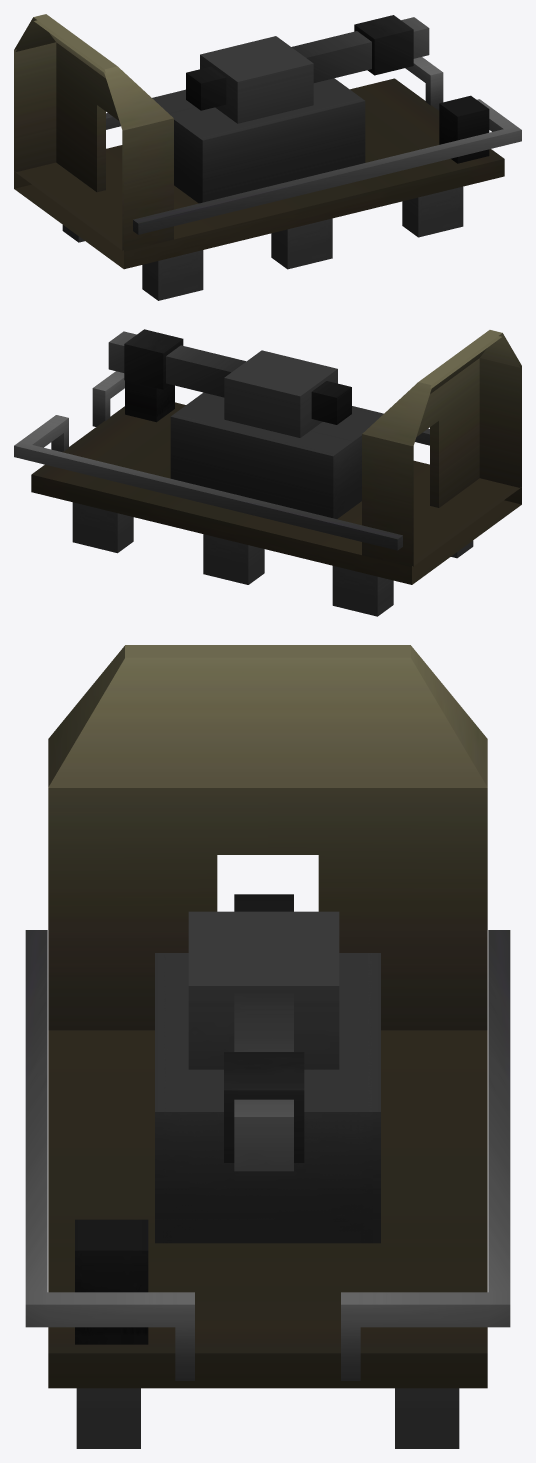
The model's file is train_half_heavy_gun_everything_placeholder_v002.fbx.
3 renders of one model, top to bottom at view 1: azimuth 30°, elevation 25°; view 2: azimuth 150°, elevation 25°; view 3: azimuth 270°, elevation 25°, orthographic. The views are drawn at different scales.
Parts seen in each view (by area): view 1: body heavy weapon.001, heavy weapon pewpew.002, heavy weapon base.001, terminal; view 2: body heavy weapon.001, heavy weapon pewpew.002, heavy weapon base.001, terminal; view 3: body heavy weapon.001, heavy weapon base.001, heavy weapon pewpew.002, terminal.
Boxes of the visible parts, left/top/right/bottom form: body heavy weapon.001: left=14, top=14, right=521, bottom=300; heavy weapon pewpew.002: left=186, top=15, right=429, bottom=110; heavy weapon base.001: left=200, top=36, right=313, bottom=123; terminal: left=439, top=95, right=489, bottom=163; body heavy weapon.001: left=14, top=330, right=521, bottom=616; heavy weapon pewpew.002: left=108, top=329, right=351, bottom=424; heavy weapon base.001: left=224, top=350, right=337, bottom=437; terminal: left=125, top=380, right=174, bottom=422; body heavy weapon.001: left=25, top=645, right=510, bottom=1448; heavy weapon base.001: left=188, top=911, right=339, bottom=1069; heavy weapon pewpew.002: left=224, top=894, right=304, bottom=1171; terminal: left=75, top=1219, right=148, bottom=1344.
Bounding box in the file's own units: 331 × 351 × 619.
